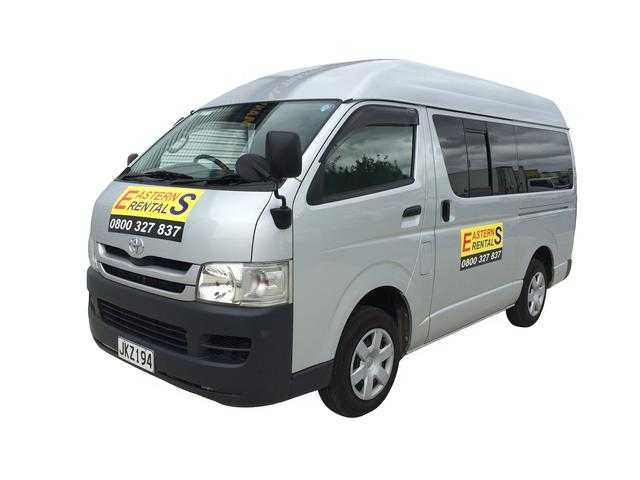van: (87, 58, 575, 418)
